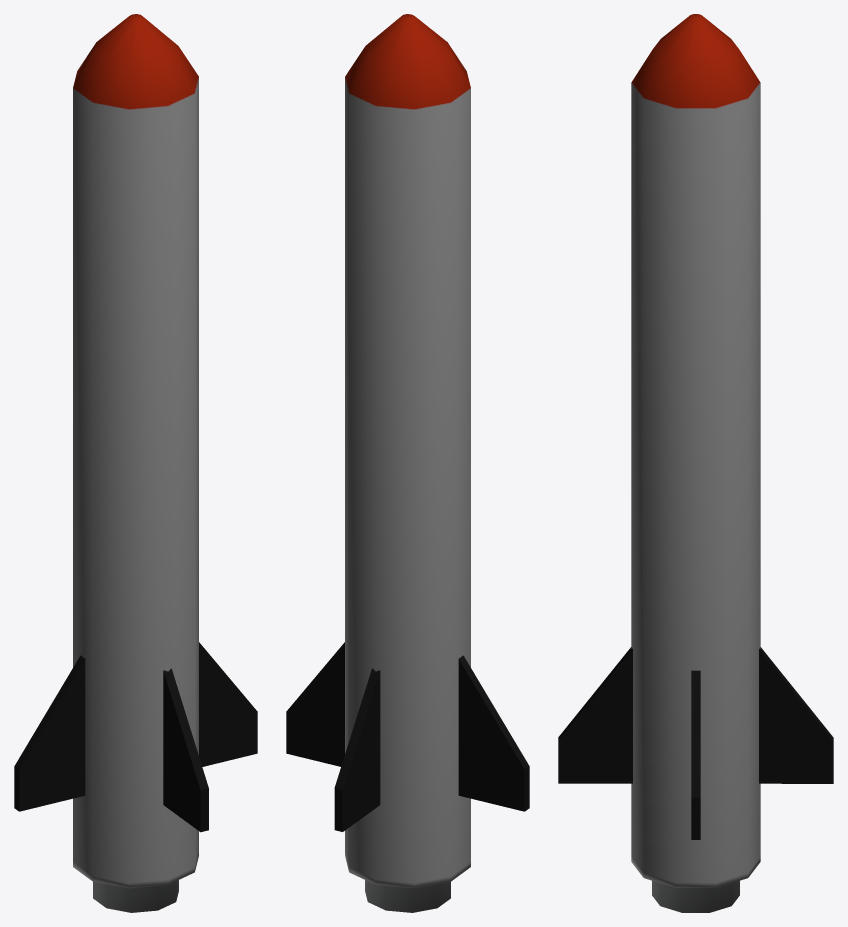
Rendered from Missile1.fbx.
3 renders of one model, left to right at view 1: azimuth 30°, elevation 25°; view 2: azimuth 150°, elevation 25°; view 3: azimuth 270°, elevation 25°, orthographic.
Parts seen in each view (by area): view 1: Cube; view 2: Cube; view 3: Cube.
Part boxes in pixels (x1,y1,x2,y2): Cube: [14, 14, 257, 912]; Cube: [286, 14, 529, 912]; Cube: [558, 14, 833, 912].
Bounding box in the file's own units: 115 × 404 × 115.
Materials: 1 (1 with a texture image).
